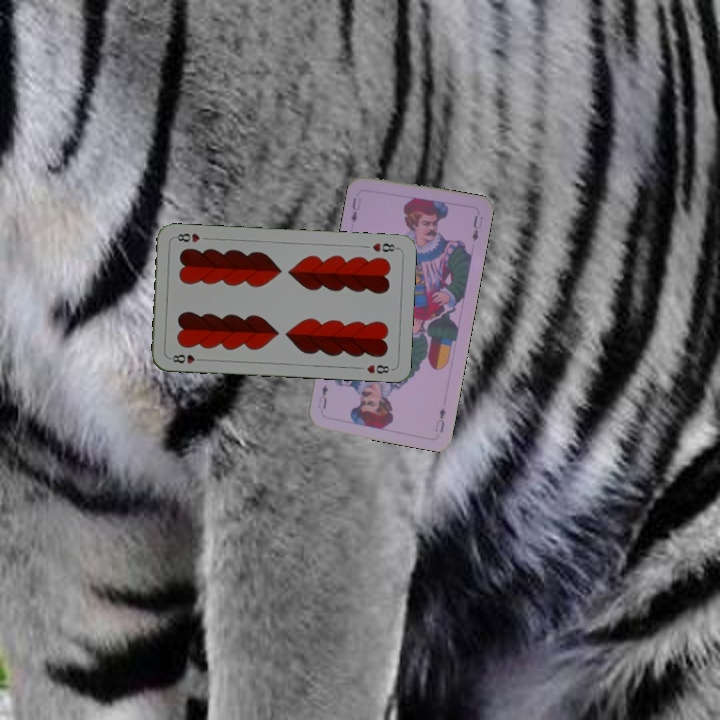EU: (347, 193, 364, 225), (431, 404, 448, 435)
H8: (166, 350, 206, 366), (368, 239, 400, 255)
